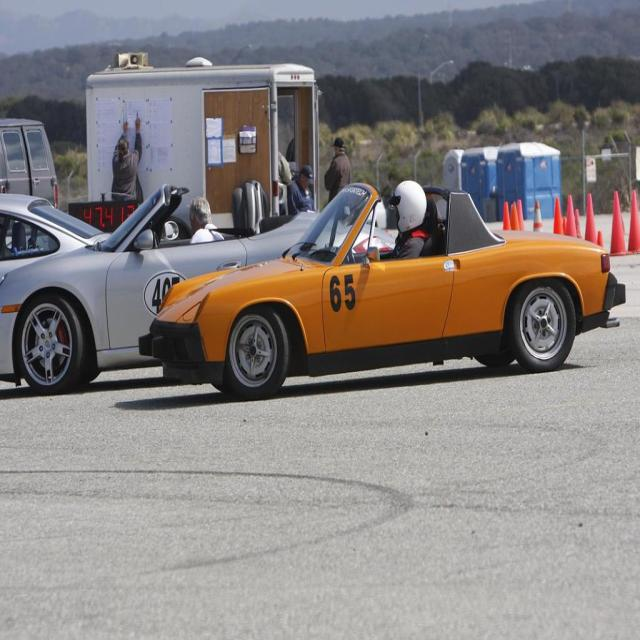car: (133, 176, 626, 402)
